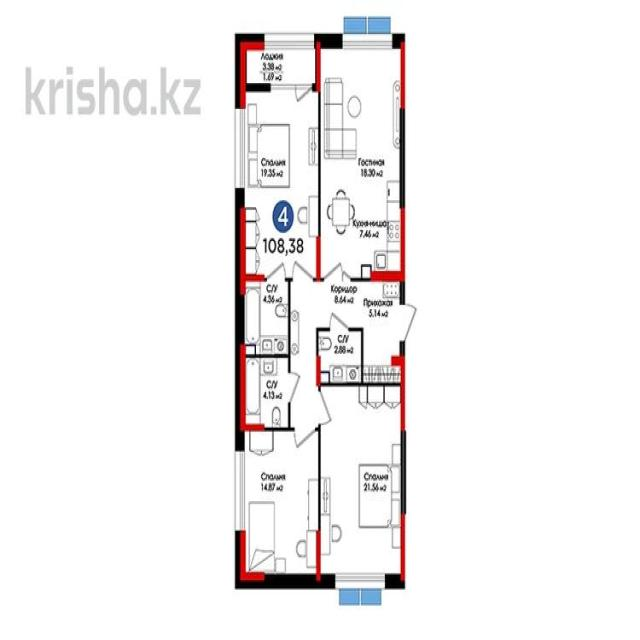balcony: (243, 43, 319, 92)
bathroom: (242, 280, 288, 358), (242, 359, 290, 431), (318, 328, 362, 384)
hallway: (361, 281, 403, 384), (289, 278, 361, 330)
living_room: (318, 387, 404, 584), (243, 89, 319, 280), (241, 430, 318, 584)
studio: (318, 42, 404, 281)
